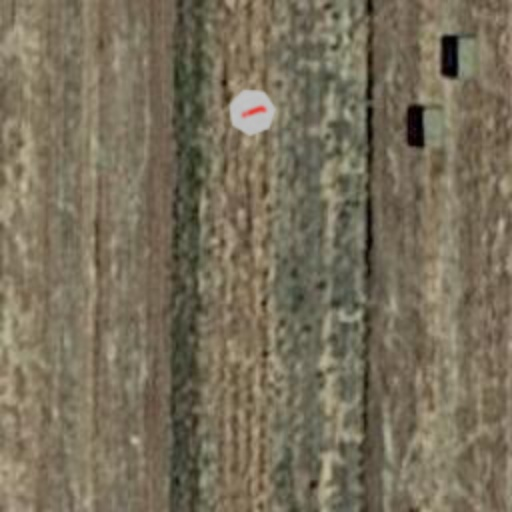heptagon: (220, 80, 284, 144)
